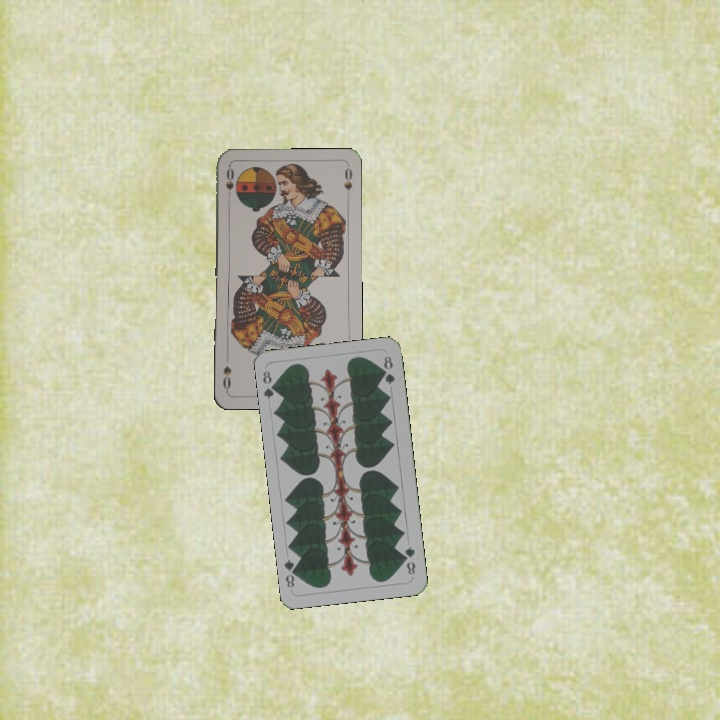G8: (259, 367, 280, 402), (400, 542, 418, 577)
SO: (221, 164, 236, 204)
